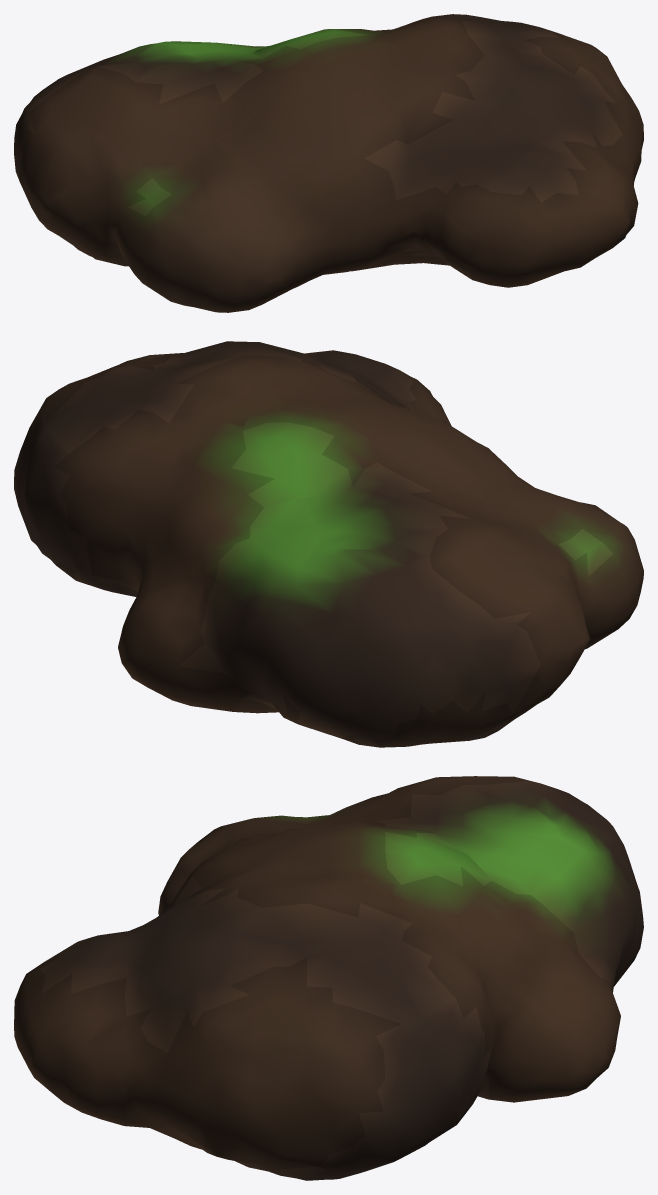
The model's file is canopy_soil_clod_b.glb.
3 views of the same model, one above another, from view 1: azimuth 30°, elevation 25°; view 2: azimuth 150°, elevation 25°; view 3: azimuth 270°, elevation 25° (orthographic). The views are drawn at different scales.
Visible parts, largest first — view 1: canopy_soil_clod_b; view 2: canopy_soil_clod_b; view 3: canopy_soil_clod_b.
Part boxes in pixels (bbox=[...]): canopy_soil_clod_b: bbox=[14, 14, 643, 312]; canopy_soil_clod_b: bbox=[14, 341, 643, 747]; canopy_soil_clod_b: bbox=[14, 776, 643, 1180].
Bounding box in the file's own units: 5.55 × 1.97 × 4.86.
